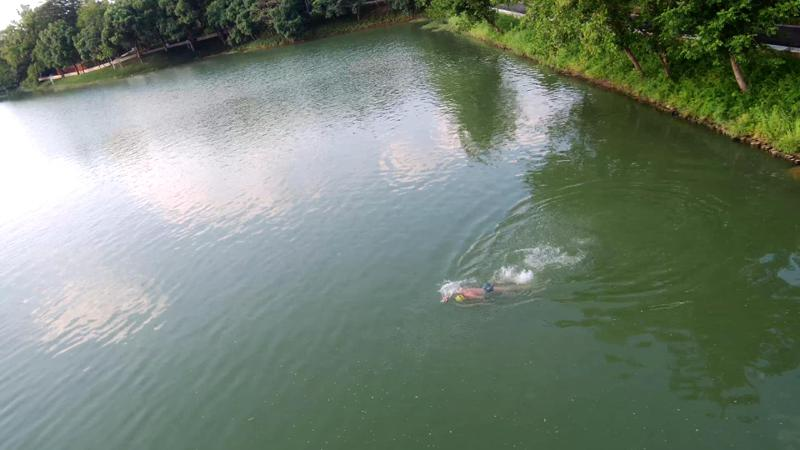swimmers: (440, 277, 531, 304)
